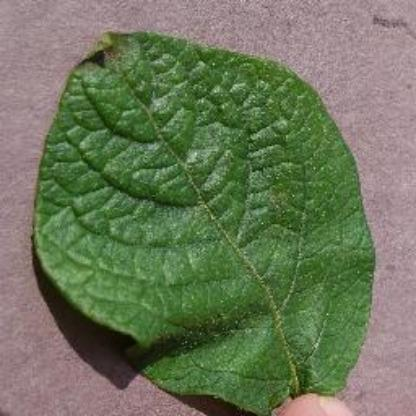Healthy-plant: (29, 21, 394, 415)
